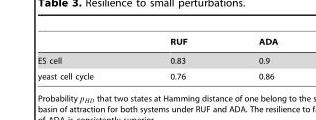table: (37, 37, 277, 80)
table column: (37, 37, 131, 80), (131, 37, 222, 80), (222, 37, 277, 80)
table column header: (37, 37, 277, 50)
table row: (37, 50, 277, 68), (37, 37, 277, 50), (37, 68, 277, 80)
